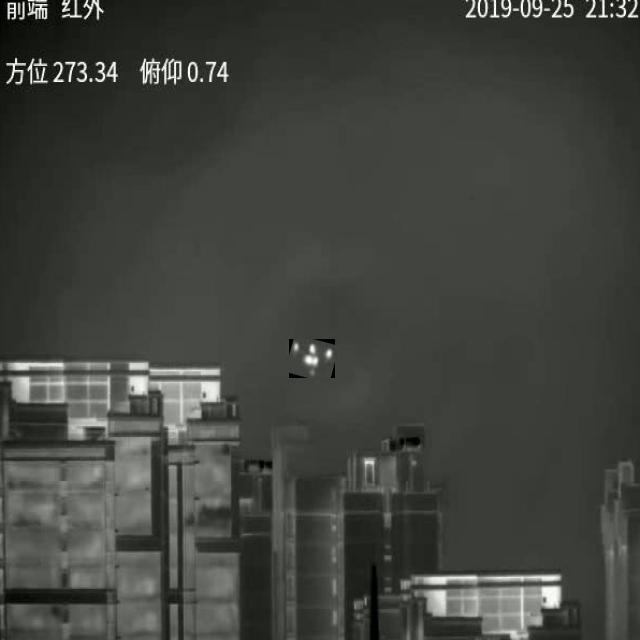drone: (291, 339, 335, 378)
